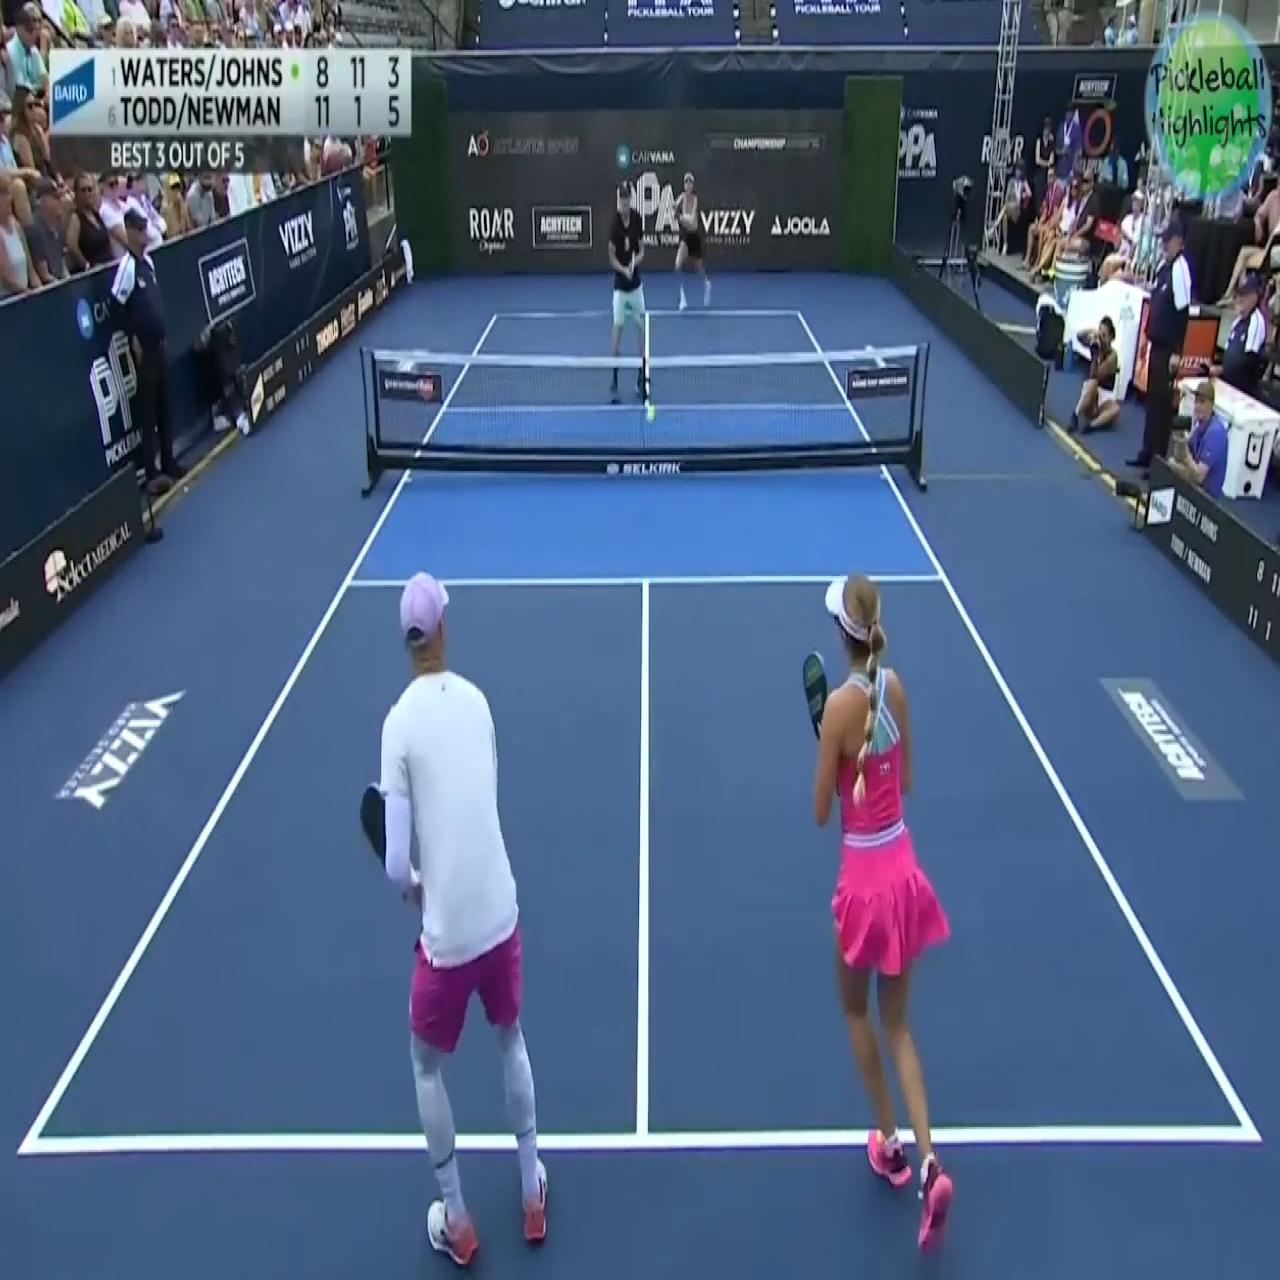Pickleball: (644, 396, 656, 427)
